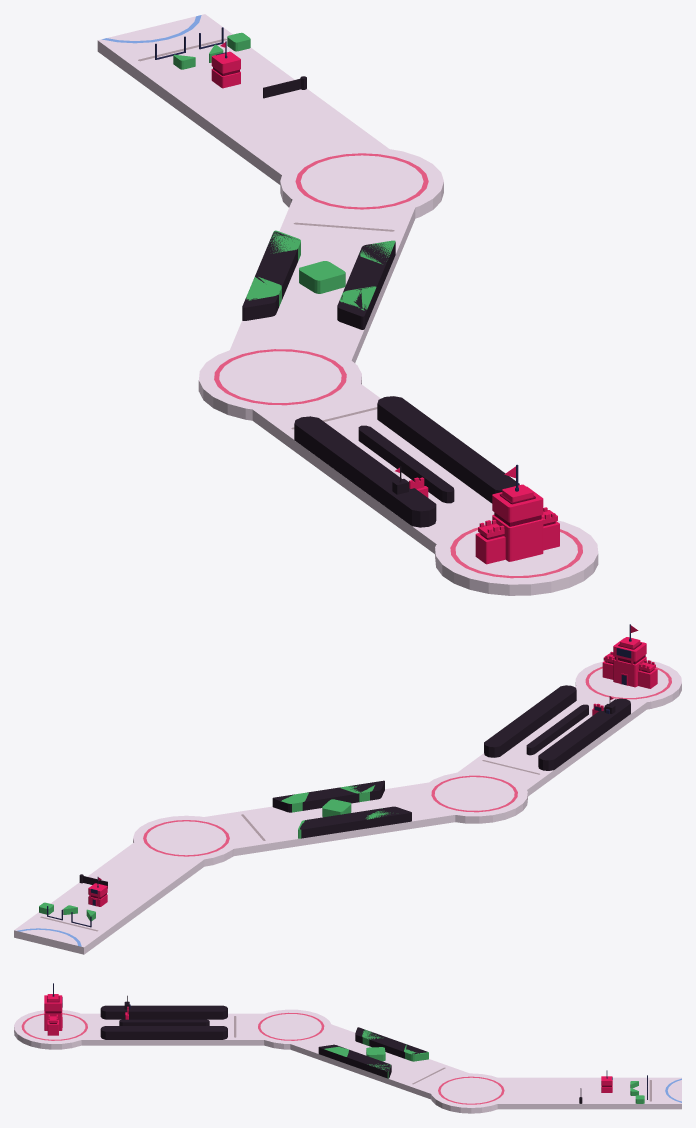
File: mob_control_1.fbx
3 views of the same model, one above another, from view 1: azimuth 30°, elevation 25°; view 2: azimuth 150°, elevation 25°; view 3: azimuth 270°, elevation 25° (orthographic). The views are drawn at different scales.
Visible parts, largest first — view 1: Level_1_Platform, Level_1_Block_2.002, Big_Red_House_1.003, Level_1_Block_2.001, Level_1_Block_1.002, Level_1_Block_1.003, Level_1_Block_2.003, Level_2_Block_1.005, Red_House_1.002; view 2: Level_1_Platform, Level_1_Block_2.001, Level_1_Block_2.002, Big_Red_House_1.003, Level_1_Block_1.003, Level_1_Block_1.002, Level_1_Block_2.003; view 3: Level_1_Platform, Level_1_Block_2.002, Level_1_Block_2.001, Level_1_Block_1.002, Level_1_Block_1.003, Big_Red_House_1.003, Level_1_Block_2.003, Level_2_Block_1.005, Level_2_Block_1.004.
Boxes of the visible parts, bbox=[...] form: Level_1_Platform: bbox=[97, 14, 598, 595]; Level_1_Block_2.002: bbox=[294, 416, 436, 527]; Big_Red_House_1.003: bbox=[475, 464, 559, 564]; Level_1_Block_2.001: bbox=[377, 396, 519, 503]; Level_1_Block_1.002: bbox=[337, 242, 395, 329]; Level_1_Block_1.003: bbox=[242, 231, 297, 320]; Level_1_Block_2.003: bbox=[358, 425, 454, 503]; Level_2_Block_1.005: bbox=[299, 261, 345, 293]; Red_House_1.002: bbox=[211, 41, 240, 88]; Level_1_Platform: bbox=[14, 660, 681, 954]; Level_1_Block_2.001: bbox=[484, 685, 576, 757]; Level_1_Block_2.002: bbox=[538, 698, 630, 770]; Big_Red_House_1.003: bbox=[602, 624, 657, 688]; Level_1_Block_1.003: bbox=[299, 806, 411, 838]; Level_1_Block_1.002: bbox=[272, 780, 384, 812]; Level_1_Block_2.003: bbox=[526, 704, 588, 755]; Level_1_Platform: bbox=[14, 1009, 681, 1113]; Level_1_Block_2.002: bbox=[100, 1005, 227, 1019]; Level_1_Block_2.001: bbox=[100, 1026, 227, 1039]; Level_1_Block_1.002: bbox=[318, 1044, 391, 1078]; Level_1_Block_1.003: bbox=[355, 1027, 427, 1058]; Big_Red_House_1.003: bbox=[44, 983, 62, 1035]; Level_1_Block_2.003: bbox=[119, 1019, 209, 1025]; Level_2_Block_1.005: bbox=[366, 1047, 385, 1061]; Level_2_Block_1.004: bbox=[404, 1044, 428, 1061].
Bounding box in the file's own units: 3.76 × 0.867 × 10.78.
1 material, 1 textured.
